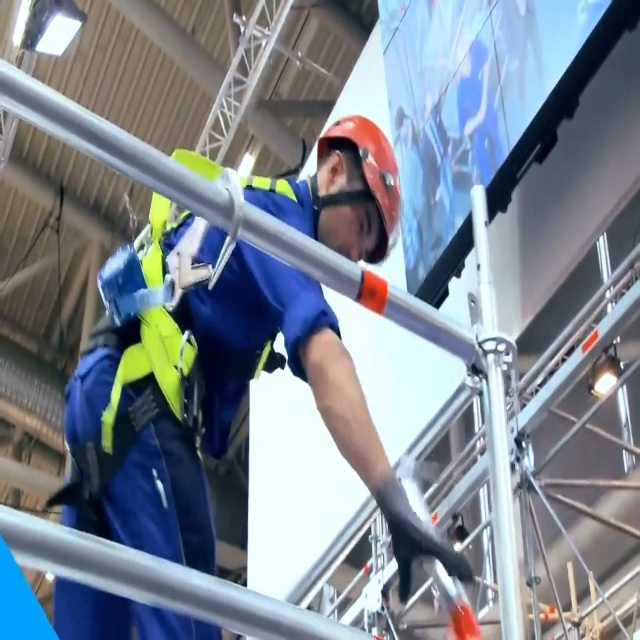Arnes_seguridad: (54, 96, 299, 508)
